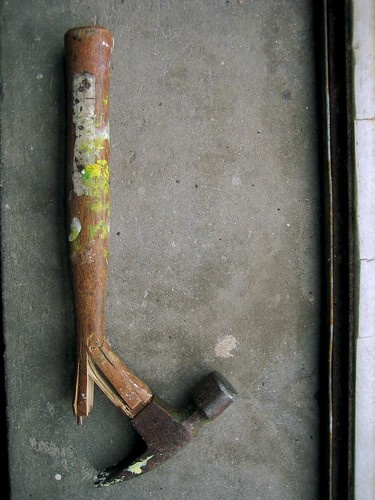hammer: (57, 25, 240, 488)
